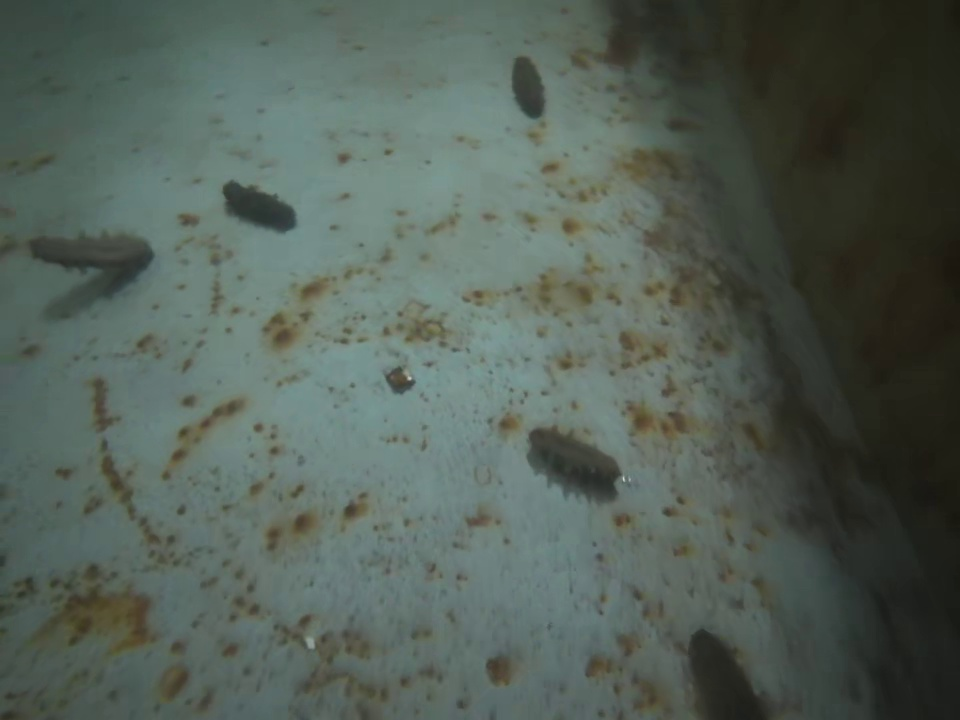seacucumber: (690, 622, 769, 720), (528, 419, 624, 488), (26, 232, 157, 273), (219, 176, 299, 231), (511, 52, 549, 120)
